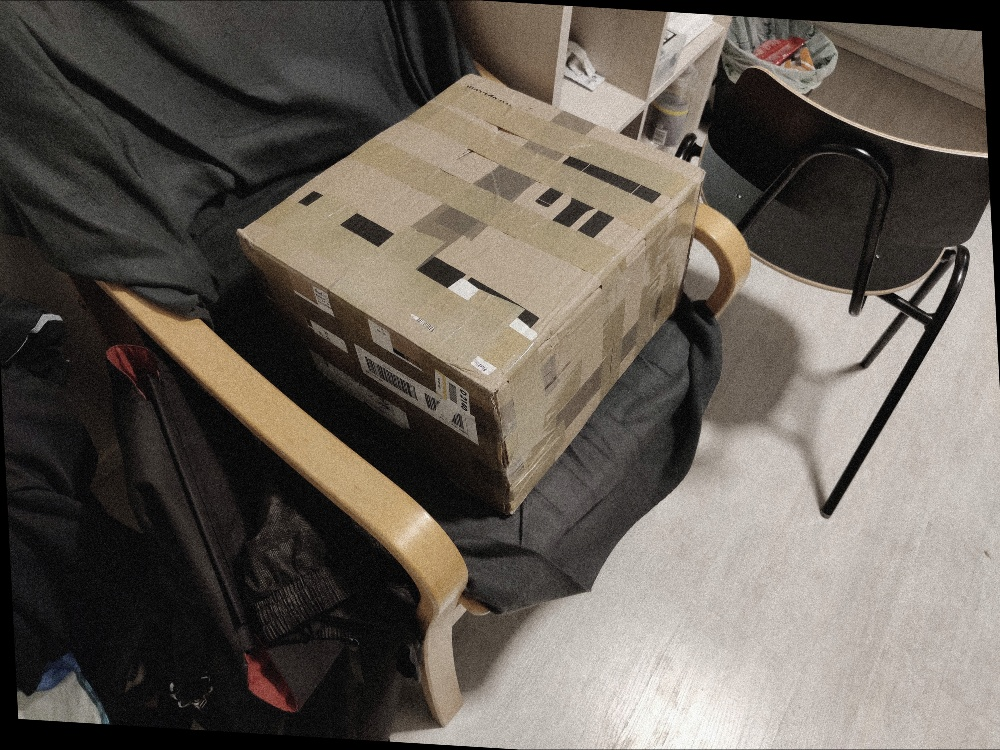good-parcel: (212, 48, 742, 527)
